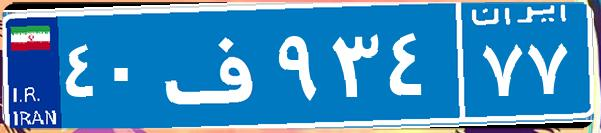0: (110, 28, 158, 105)
3: (330, 28, 385, 110)
4: (385, 28, 445, 110), (57, 26, 110, 107)
7: (475, 38, 525, 113), (525, 38, 570, 115)
9: (273, 28, 330, 110)
ف: (158, 15, 273, 115)
